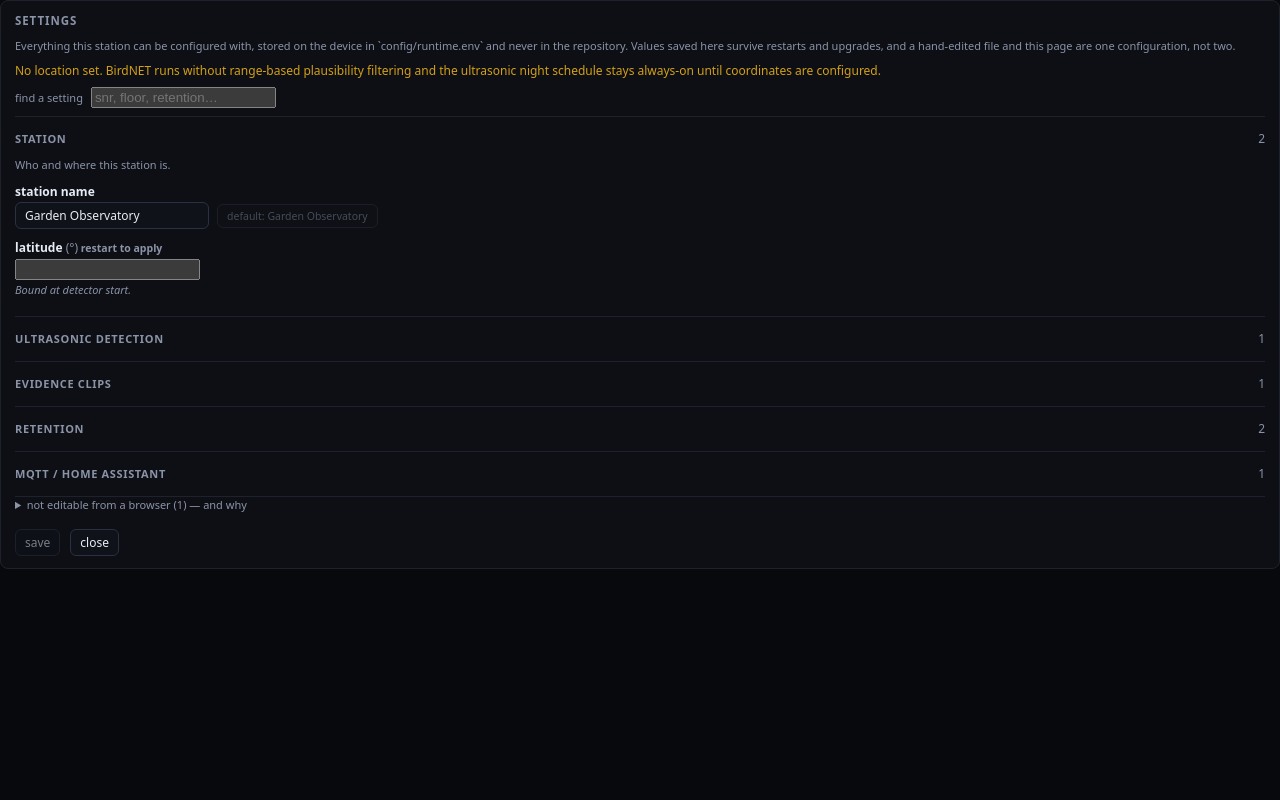
Test: SettingsPanel › surfaces per-field validation errors instead of a generic failure
Type "51.4769" into the number field labelled "latitude (°) restart to apply" at (108, 269), box [15,259,200,280]
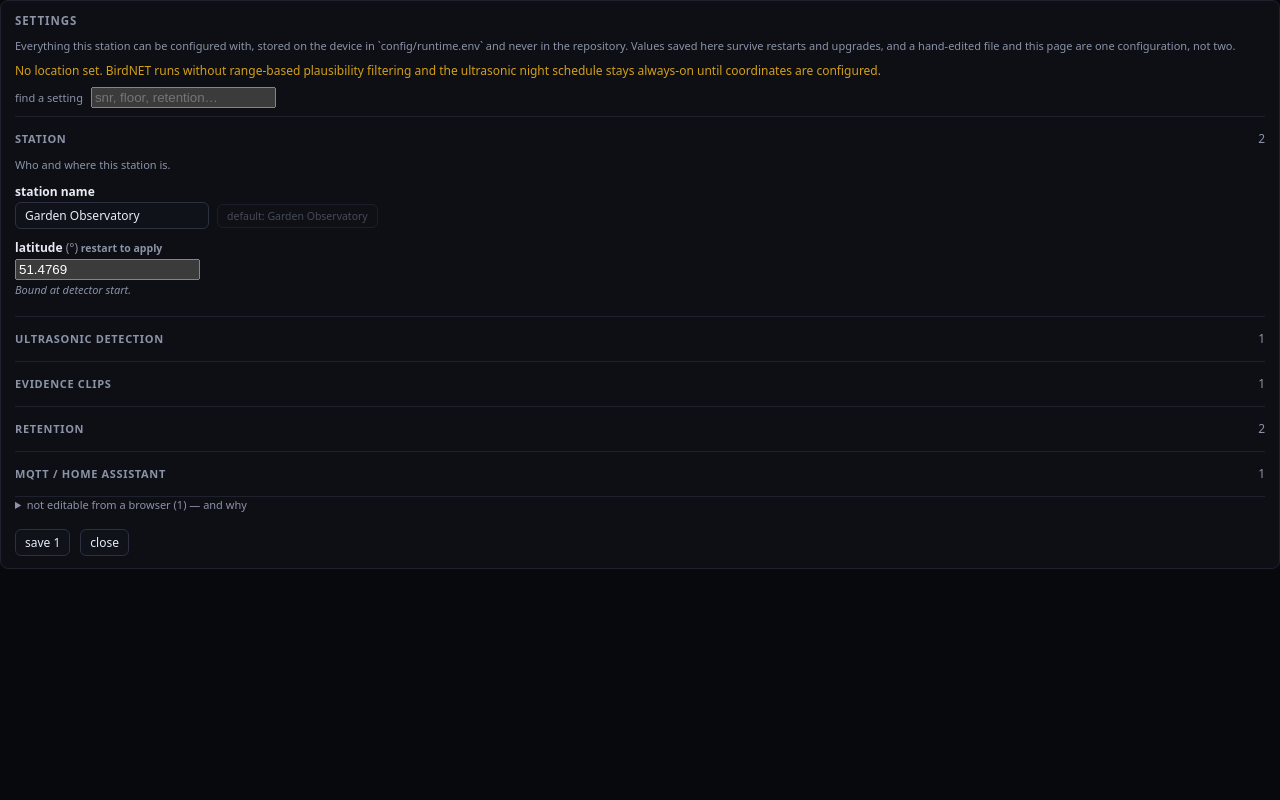
Click the button "save 1" at (43, 542), box [15,529,70,556]
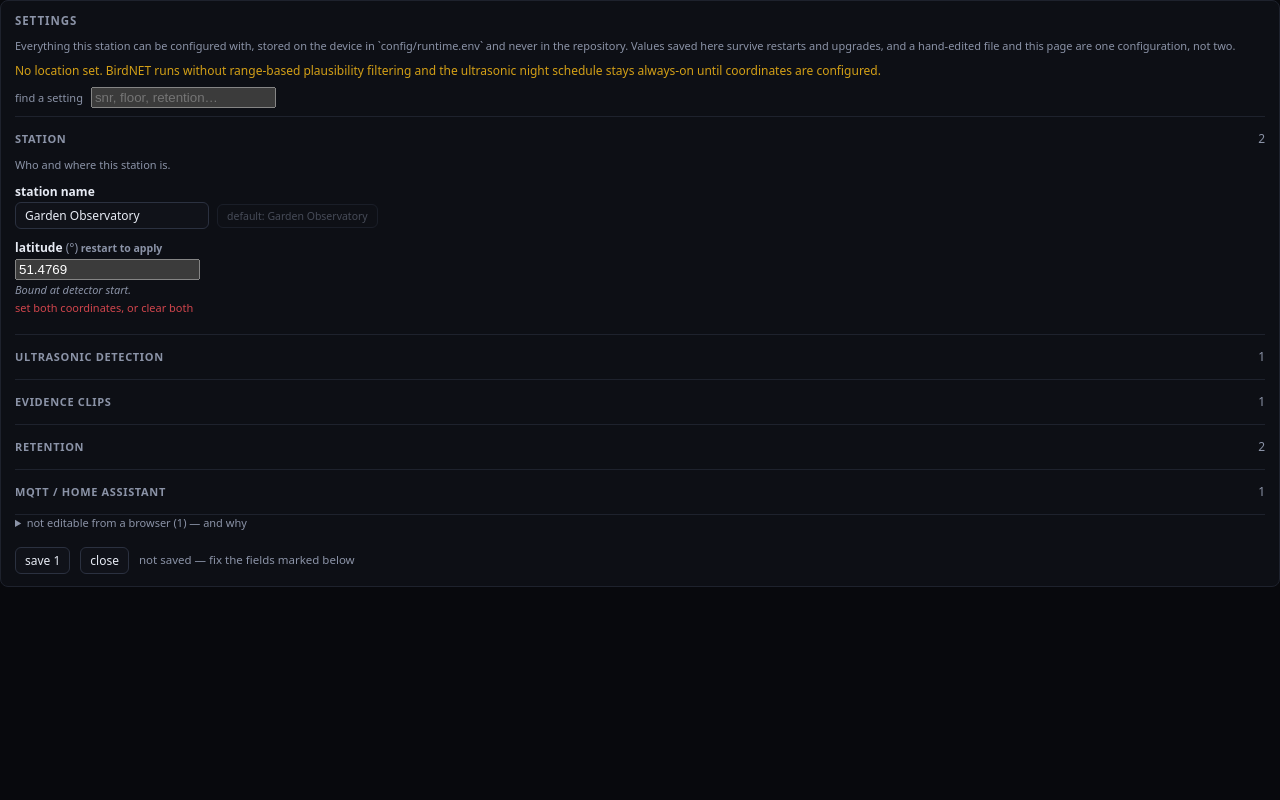
Expected: the text "set both coordinates, or clear both" is shown, [15,300,193,315]
